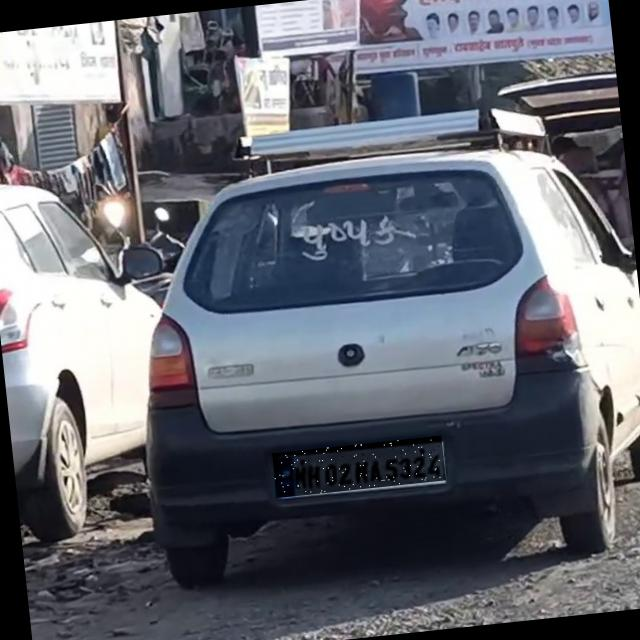Plate: (273, 436, 447, 499)
